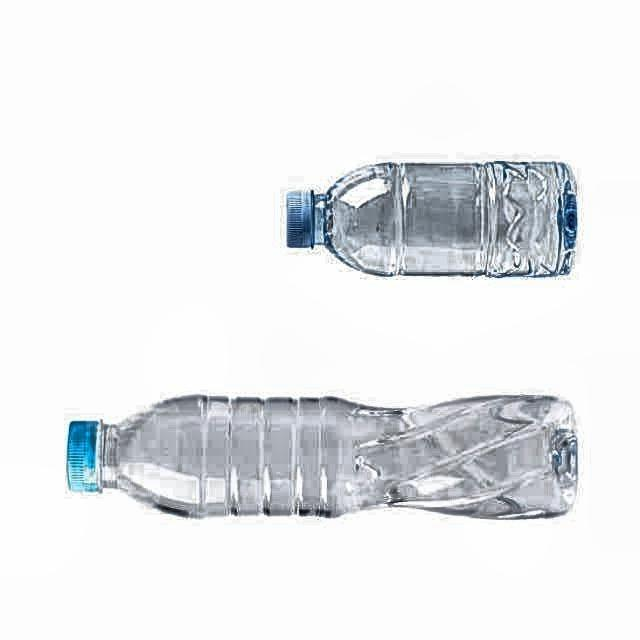plastic: (68, 395, 578, 517), (289, 162, 576, 274)
